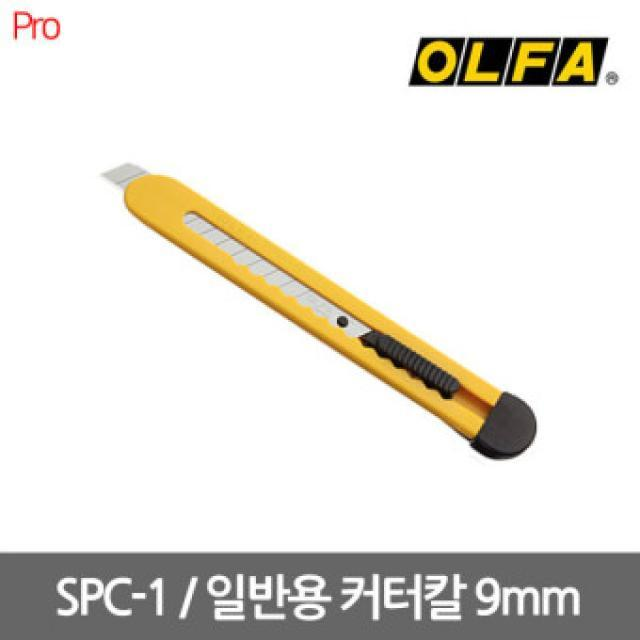cutter: (94, 156, 545, 470)
